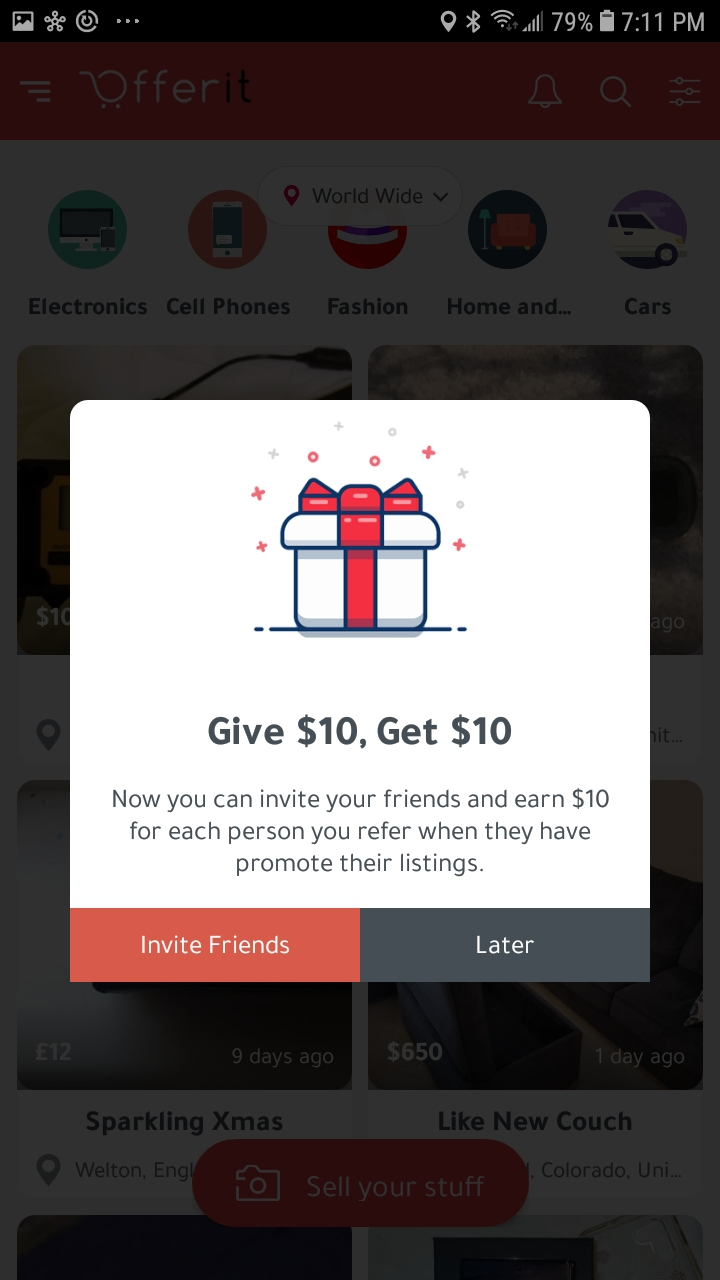Image: (251, 422, 469, 640)
Modal: (70, 400, 650, 982)
Text: (113, 788, 609, 877), (208, 714, 512, 749)
TextButton: (360, 908, 650, 982), (71, 908, 360, 982)
UpperTaskBar: (1, 1, 720, 41)
